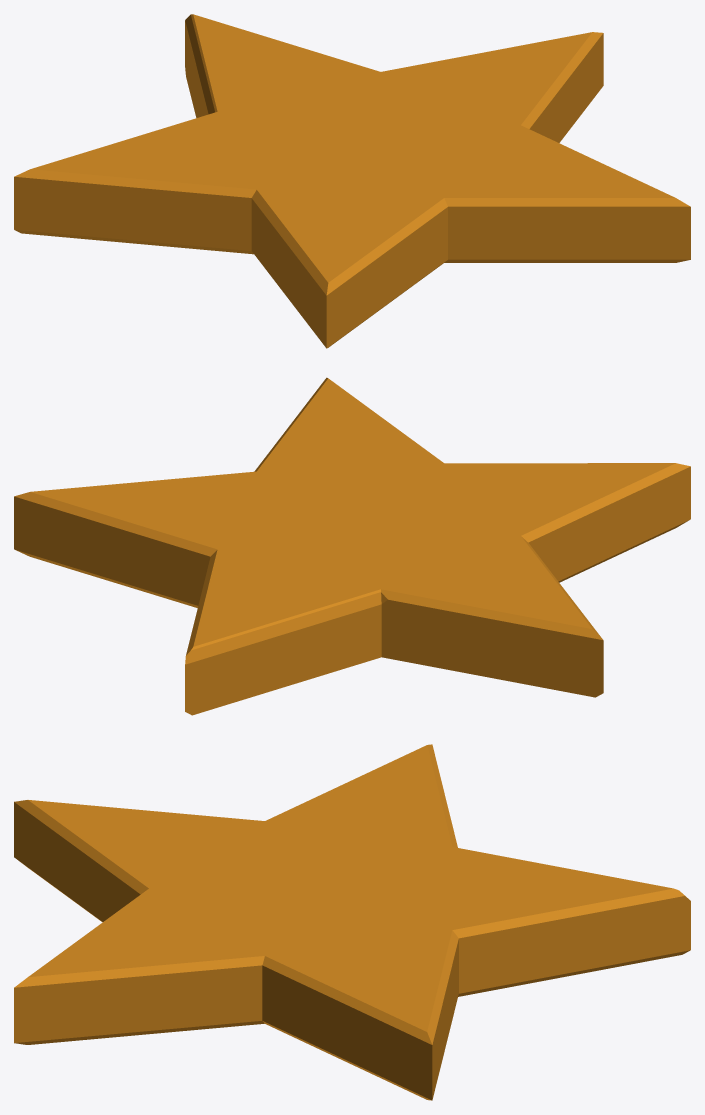
The model's file is StarBevelled.fbx.
The picture shows the model from 3 angles, top to bottom: view 1: azimuth 30°, elevation 25°; view 2: azimuth 150°, elevation 25°; view 3: azimuth 270°, elevation 25°; orthographic projection. The views are drawn at different scales.
Parts seen in each view (by area): view 1: Star; view 2: Star; view 3: Star.
Boxes of the visible parts, box(x1,y1,x2,y2) form: Star: box(14, 14, 690, 348); Star: box(14, 377, 690, 715); Star: box(14, 744, 690, 1100).
Bounding box in the file's own units: 1.9 × 0.2 × 1.81.
